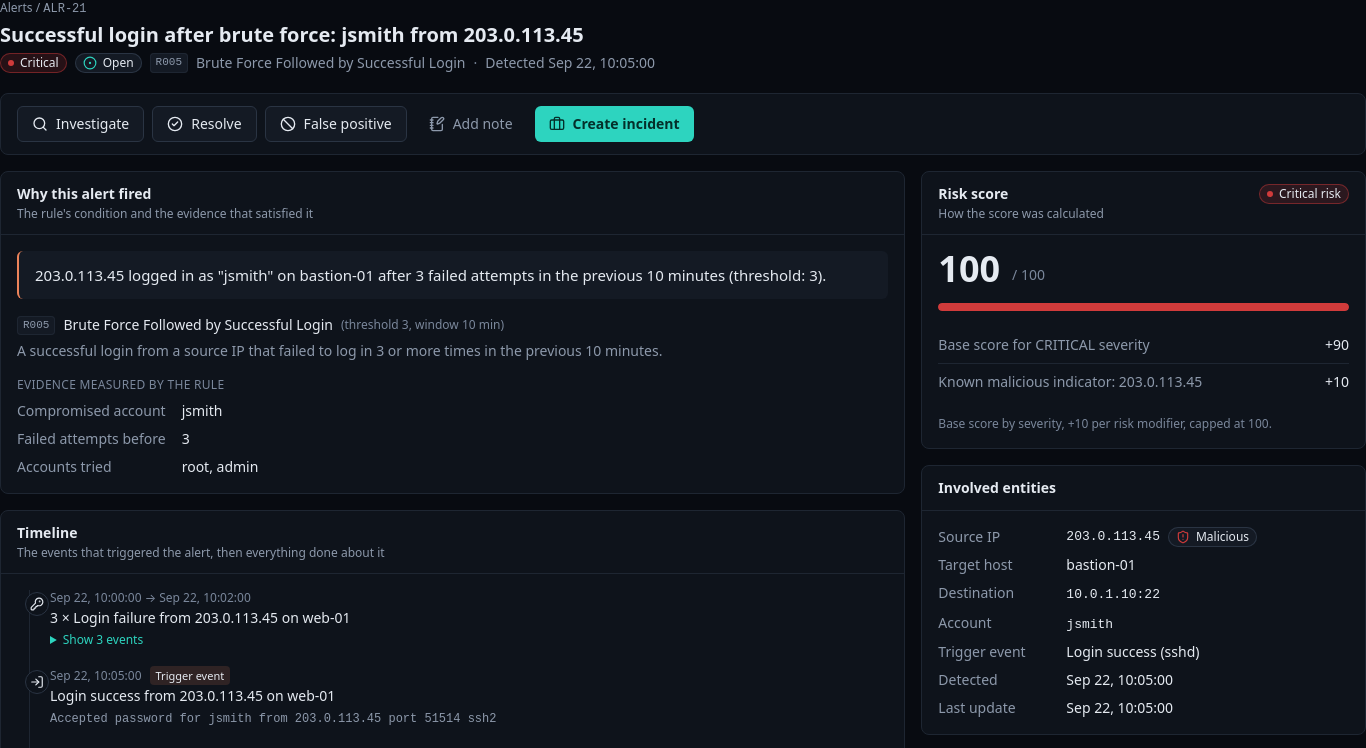
alert investigation page › lets an analyst start investigating
The width and height of the screenshot is (1366, 748).
Click the button "Investigate" at (81, 124), box [17,106,144,142]
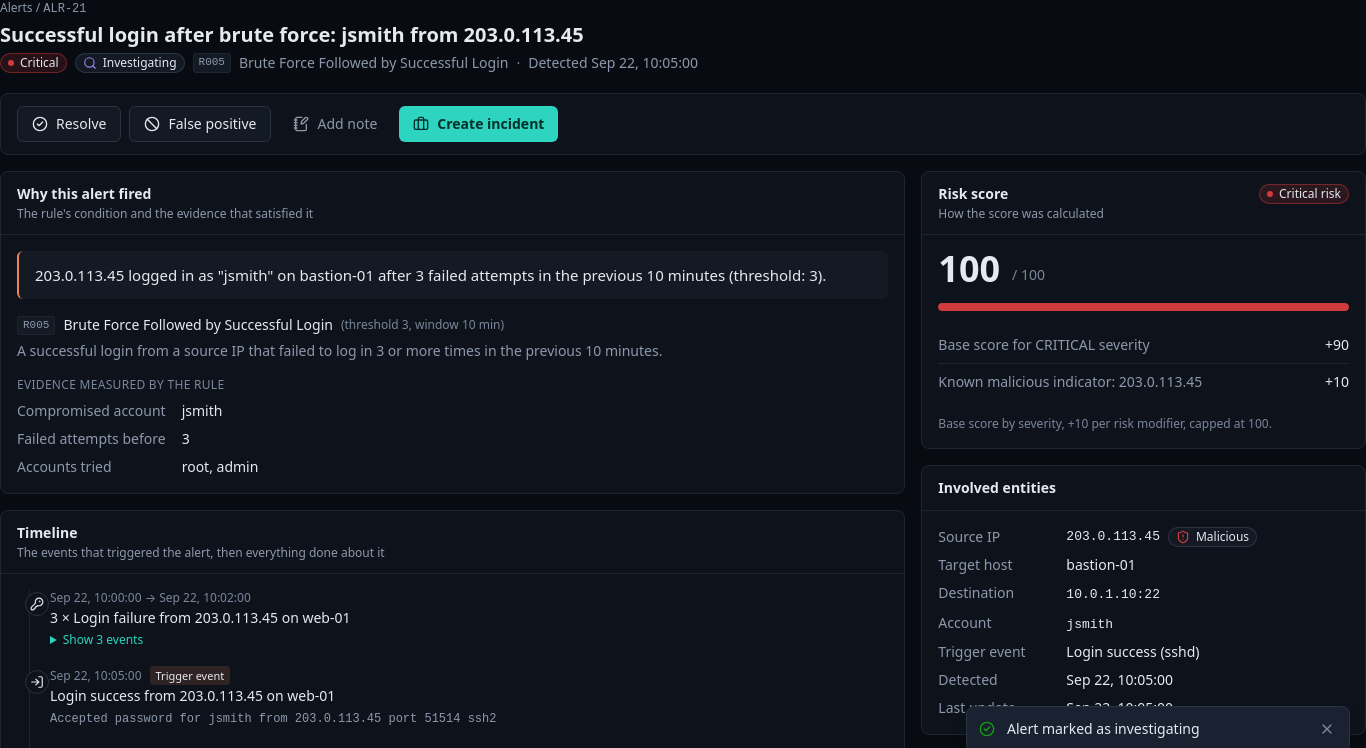
Check: the text "Alert marked as investigating" is shown, box [1007,719,1200,738]
